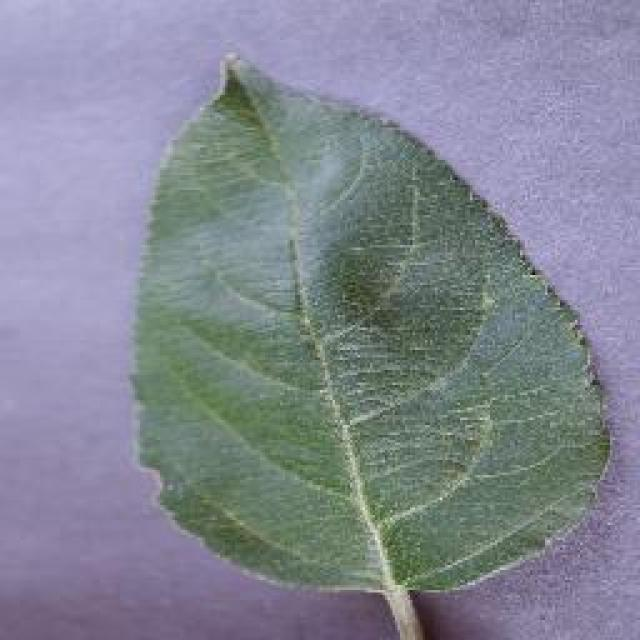apple healthy: (125, 48, 613, 620)
